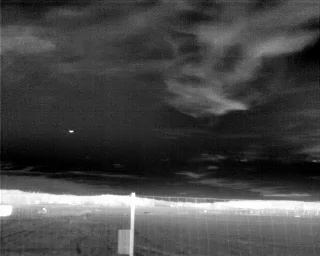AIRPLANE: (67, 127, 75, 135)
